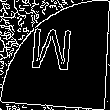M_S: (31, 28, 79, 82)
